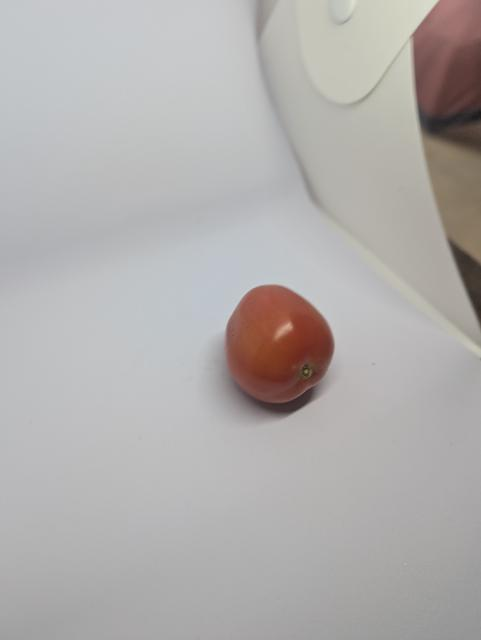red: (205, 277, 353, 422)
